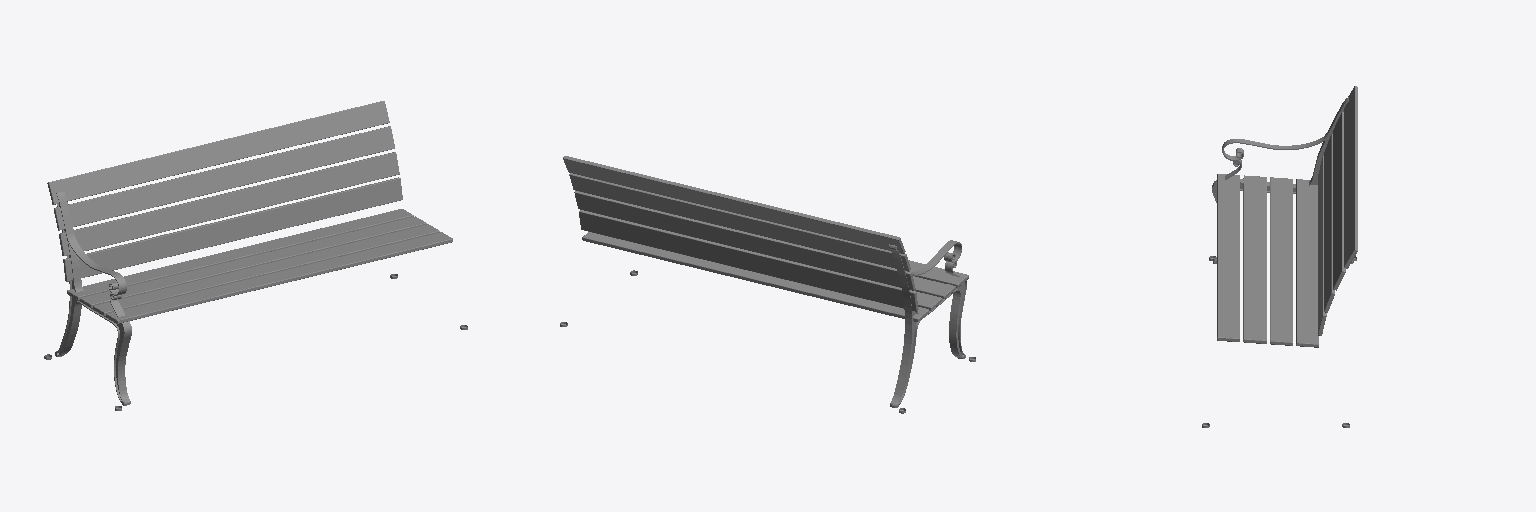
File: banca.obj
3 views of the same model, side by side, from view 1: azimuth 30°, elevation 25°; view 2: azimuth 150°, elevation 25°; view 3: azimuth 270°, elevation 25° (orthographic).
Parts seen in each view (by area): view 1: Bench_01, Recargadera1; view 2: Bench_01, Recargadera1; view 3: Bench_01, Recargadera1.
Part boxes in pixels (left/top/right/bottom): Bench_01: left=44, top=101, right=467, bottom=410; Recargadera1: left=55, top=191, right=131, bottom=405; Bench_01: left=560, top=156, right=975, bottom=413; Recargadera1: left=889, top=240, right=966, bottom=407; Bench_01: left=1202, top=86, right=1357, bottom=427; Recargadera1: left=1212, top=97, right=1353, bottom=263.
Bounding box in the file's own units: 1.59 × 0.7619 × 0.6171.